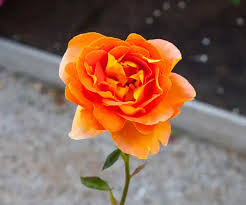lale: (61, 24, 188, 205)
